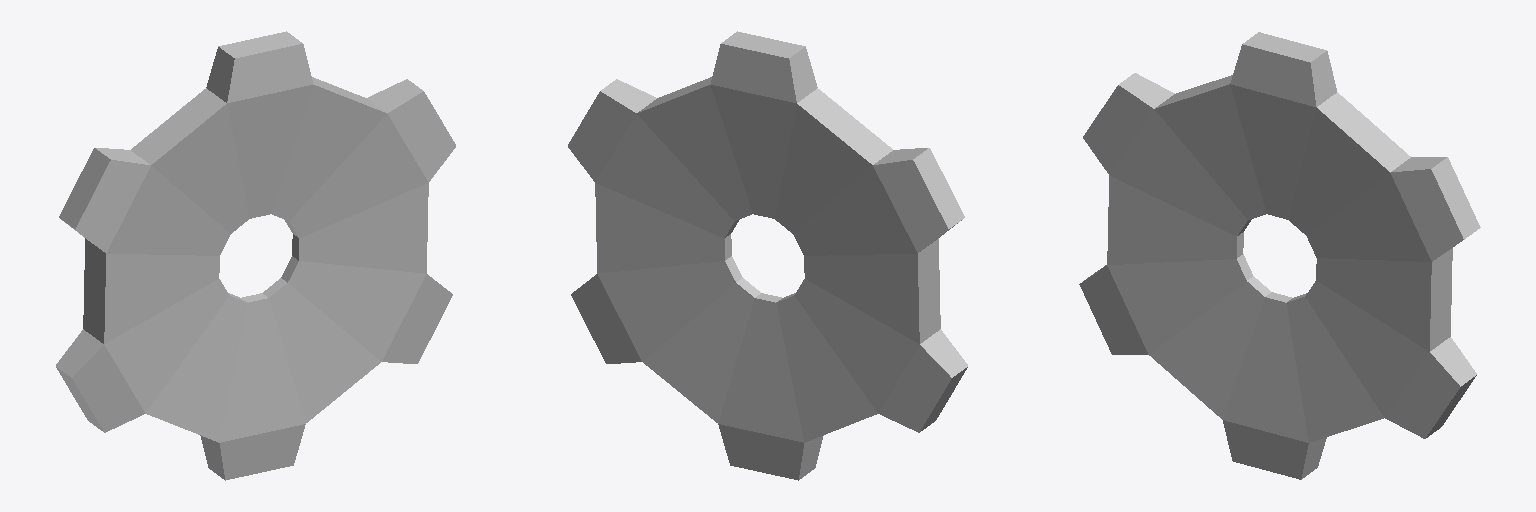
The model's file is Baby_Gear.obj.
3 renders of one model, left to right at view 1: azimuth 30°, elevation 25°; view 2: azimuth 150°, elevation 25°; view 3: azimuth 330°, elevation 25°, orthographic.
Visible parts, largest first — view 1: Baby_Gear; view 2: Baby_Gear; view 3: Baby_Gear.
Boxes of the visible parts, <box> form: Baby_Gear: <box>56,31,455,480</box>; Baby_Gear: <box>568,31,967,480</box>; Baby_Gear: <box>1079,32,1480,479</box>.
Bounding box in the file's own units: 11.64 × 12.18 × 1.1.